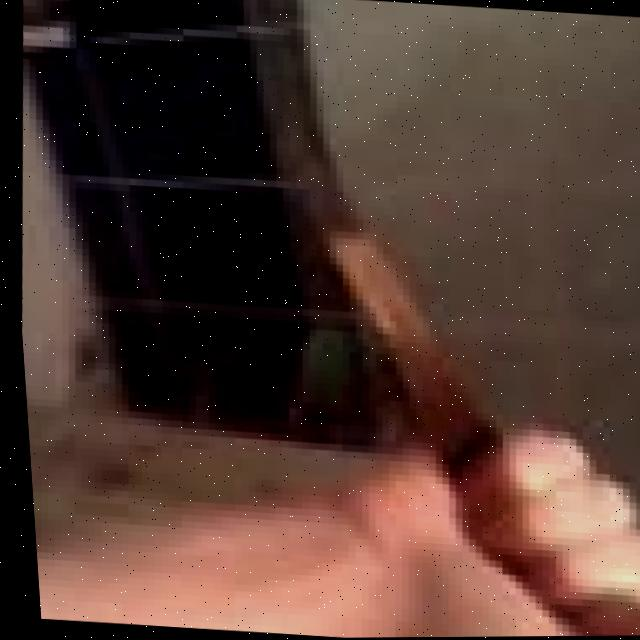knife: (246, 110, 522, 483)
